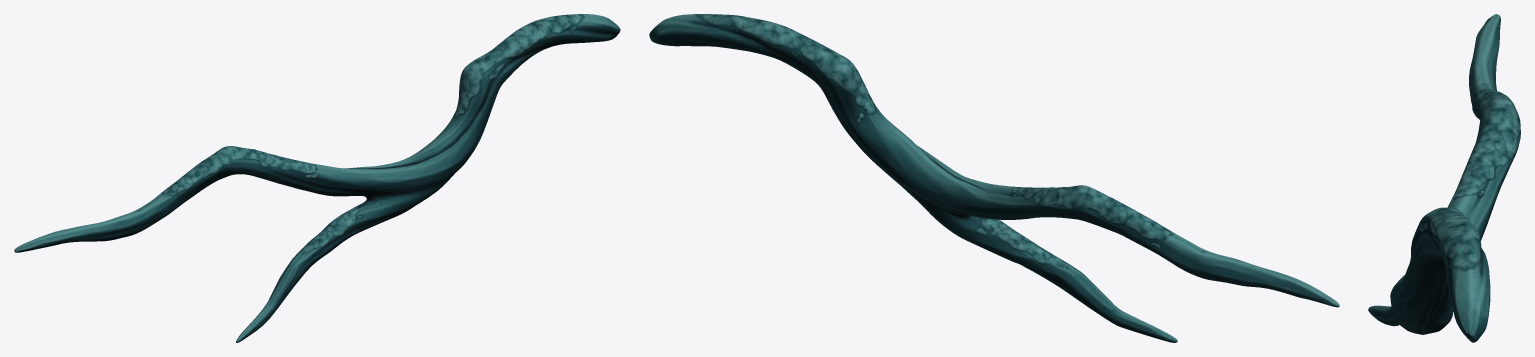
File: sky_root_02a_soma.glb
The picture shows the model from 3 angles, left to right: view 1: azimuth 30°, elevation 25°; view 2: azimuth 150°, elevation 25°; view 3: azimuth 270°, elevation 25°; orthographic projection. The views are drawn at different scales.
Parts seen in each view (by area): view 1: root_02a; view 2: root_02a; view 3: root_02a.
Boxes of the visible parts, <box> form: root_02a: <box>14,14,620,342</box>; root_02a: <box>649,14,1339,342</box>; root_02a: <box>1368,14,1520,342</box>.
Bounding box in the file's own units: 11.32 × 3.94 × 1.65.
Materials: 1 (1 with a texture image).
